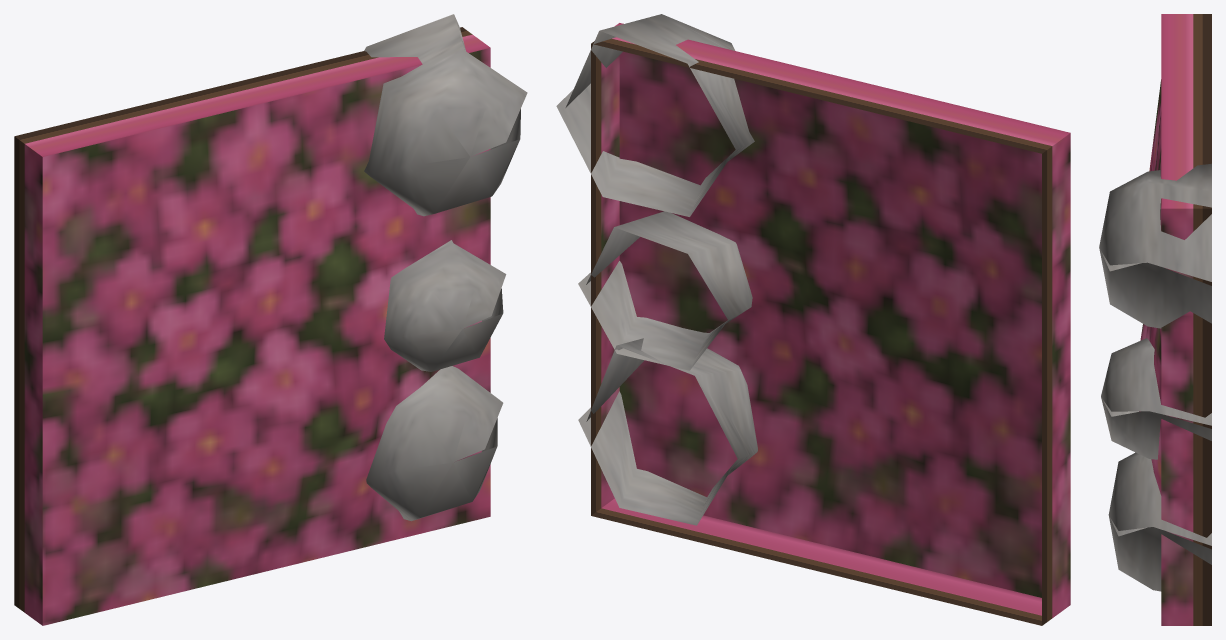
The model's file is keep-bed-magenta-stones-e.obj.
3 renders of one model, left to right at view 1: azimuth 30°, elevation 25°; view 2: azimuth 150°, elevation 25°; view 3: azimuth 270°, elevation 25°, orthographic. The views are drawn at different scales.
Parts seen in each view (by area): view 1: bed-magenta-stones-e; view 2: bed-magenta-stones-e; view 3: bed-magenta-stones-e.
Boxes of the visible parts, x1,y1,x2,y2 form: bed-magenta-stones-e: [14, 14, 527, 625]; bed-magenta-stones-e: [556, 14, 1070, 625]; bed-magenta-stones-e: [1099, 14, 1211, 625].
Bounding box in the file's own units: 1.08 × 1.03 × 0.2448.
1 material, 1 textured.
